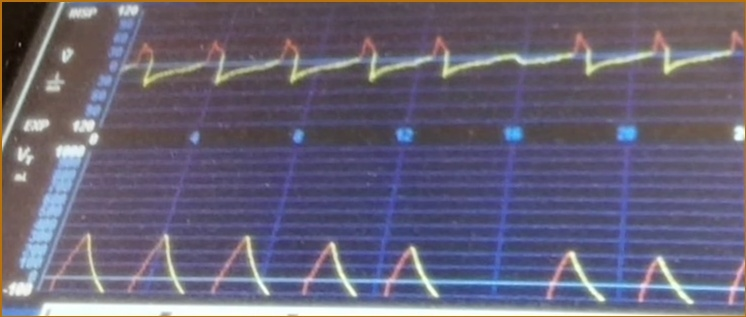Ineffective_effort Flow: (127, 22, 743, 109)
Ineffective_effort Volume: (51, 223, 746, 308)
